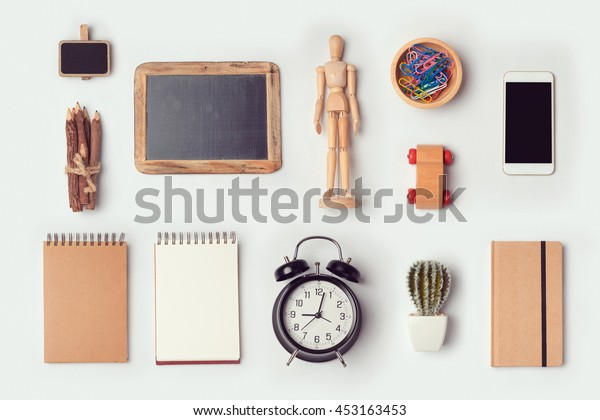not a gesture sign: (134, 63, 280, 173), (155, 233, 238, 362), (45, 235, 125, 361), (274, 259, 361, 359), (492, 243, 561, 366), (503, 71, 555, 174), (409, 315, 446, 350)
